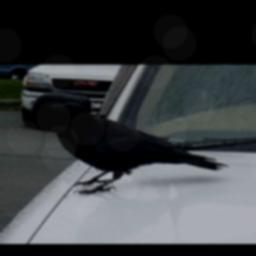Crow: (49, 101, 227, 196)
